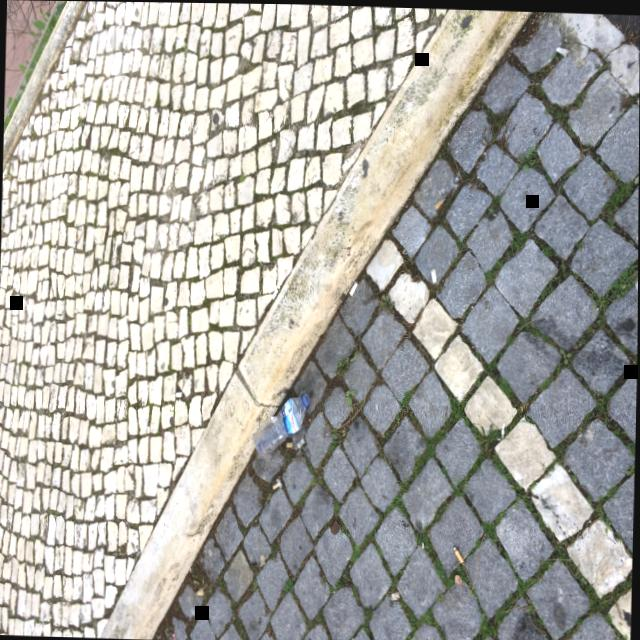Cigarette: (453, 545, 464, 562), (348, 279, 357, 295), (434, 197, 444, 208), (430, 267, 436, 282), (272, 480, 281, 488), (286, 441, 292, 447)
Clear plastic bottle: (254, 391, 310, 456)
